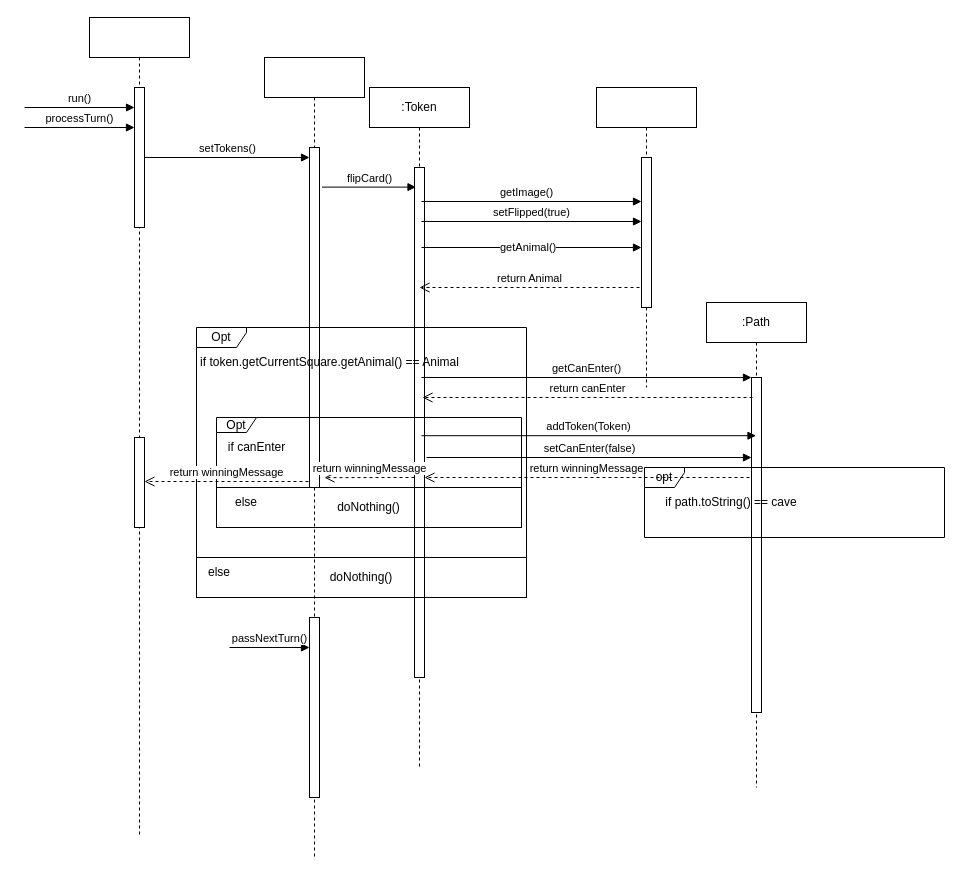
Some shapes in this 962 by 875 pixel diagram are drawn without their labels. Here are the shapes that lost their labels. From the top down, the box of each, then its label:
(596, 86, 696, 388): :ChitCard
(88, 16, 190, 838): :Game
(264, 56, 364, 858): :TokenController
